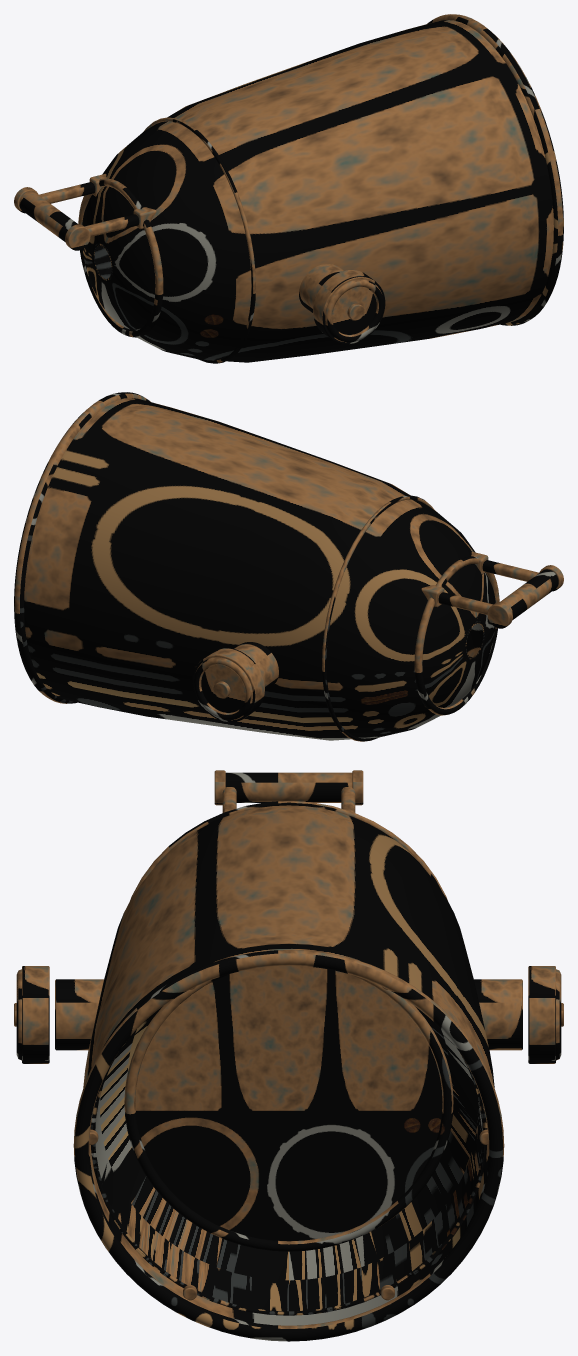
Rendered from SM_DY_LampBody_Baked.fbx.
The picture shows the model from 3 angles, top to bottom: view 1: azimuth 30°, elevation 25°; view 2: azimuth 150°, elevation 25°; view 3: azimuth 270°, elevation 25°; orthographic projection. The views are drawn at different scales.
Parts seen in each view (by area): view 1: SM_DY_LampBody_Baked; view 2: SM_DY_LampBody_Baked; view 3: SM_DY_LampBody_Baked.
Boxes of the visible parts, <box> form: SM_DY_LampBody_Baked: <box>14,14,563,363</box>; SM_DY_LampBody_Baked: <box>14,392,563,741</box>; SM_DY_LampBody_Baked: <box>14,770,563,1341</box>.
Size of the model in its own units: 0.695 by 0.877 by 0.544.
